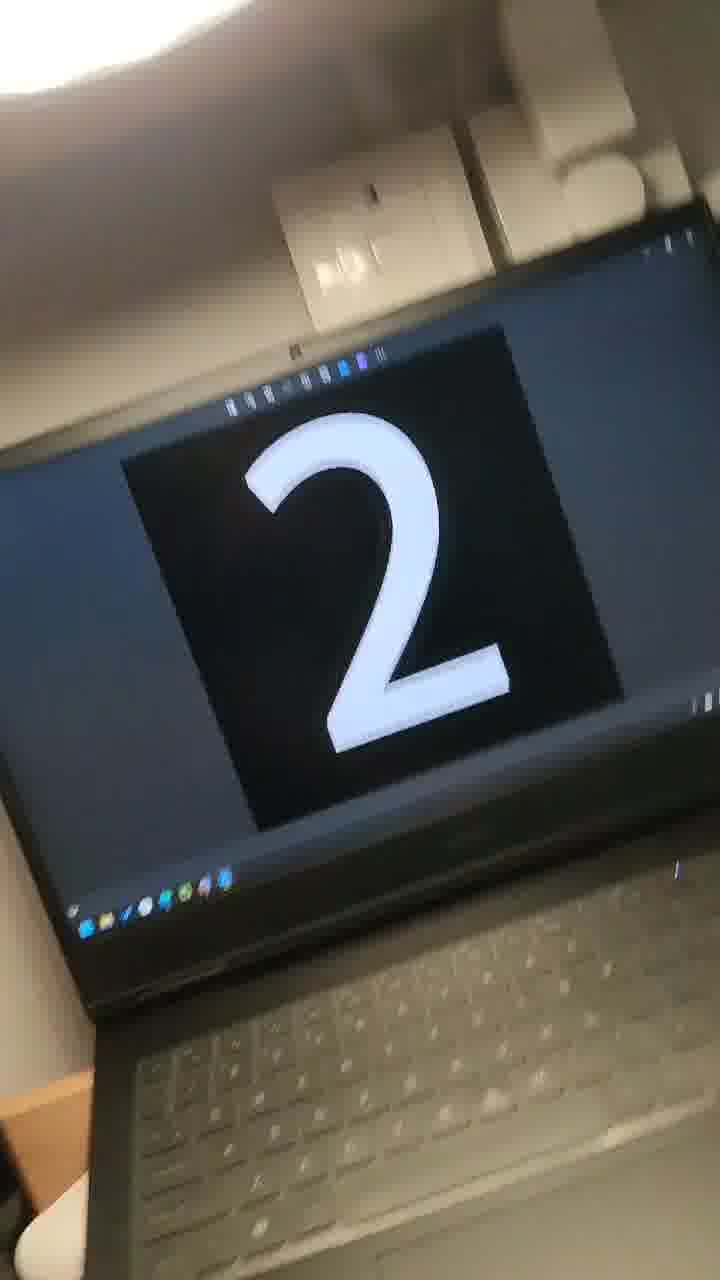two: (276, 421, 518, 738)
